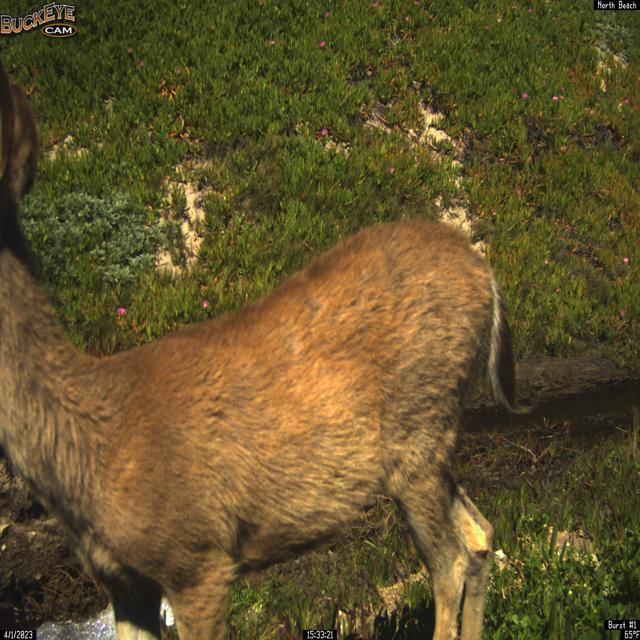deer: (1, 24, 538, 640)
